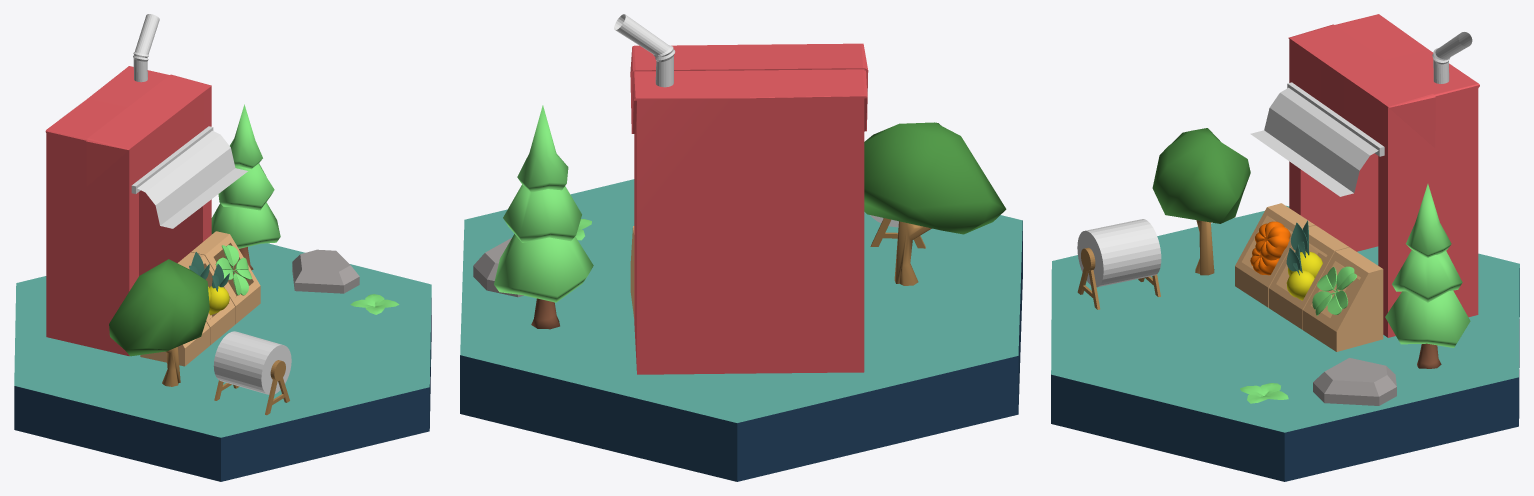
Rendered from Macro - Market lv2 wm2.fbx.
The picture shows the model from 3 angles, left to right: view 1: azimuth 30°, elevation 25°; view 2: azimuth 150°, elevation 25°; view 3: azimuth 270°, elevation 25°; orthographic projection. The views are drawn at different scales.
Visible parts, largest first — view 1: Cylinder.154, Juicebox Open, tree1 v:88 f:56, Plane.095, Tree_Spruce_tiny_01.003, Cylinder.001, Rock Type4 04 mesh.002, Cube.142, Cube.141, Cylinder, Cube.140, Cube.007 (+2 smaller); view 2: Cylinder.154, Juicebox Open, tree1 v:88 f:56, Tree_Spruce_tiny_01.003, Cylinder, Rock Type4 04 mesh.002; view 3: Cylinder.154, Juicebox Open, Tree_Spruce_tiny_01.003, tree1 v:88 f:56, Plane.095, Cube.142, Cylinder.001, Rock Type4 04 mesh.002, Cube.140, Cube.141, Sphere.053, Cylinder (+3 smaller).
Part boxes in pixels (x1,y1,x2,y2): Cylinder.154: [14, 243, 431, 481]; Juicebox Open: [45, 66, 211, 356]; tree1 v:88 f:56: [109, 259, 209, 386]; Plane.095: [137, 130, 247, 228]; Tree_Spruce_tiny_01.003: [211, 104, 280, 270]; Cylinder.001: [213, 331, 291, 394]; Rock Type4 04 mesh.002: [292, 249, 359, 293]; Cube.142: [191, 231, 260, 324]; Cube.141: [177, 252, 235, 345]; Cylinder: [133, 14, 159, 82]; Cube.140: [140, 322, 209, 366]; Cube.007: [131, 126, 213, 193]; Cylinder.154: [460, 179, 1022, 481]; Juicebox Open: [630, 43, 868, 374]; tree1 v:88 f:56: [864, 122, 1006, 285]; Tree_Spruce_tiny_01.003: [494, 105, 593, 329]; Cylinder: [614, 14, 675, 87]; Rock Type4 04 mesh.002: [473, 238, 523, 297]; Cylinder.154: [1051, 205, 1519, 481]; Juicebox Open: [1288, 14, 1479, 337]; Tree_Spruce_tiny_01.003: [1385, 184, 1470, 368]; tree1 v:88 f:56: [1152, 128, 1250, 275]; Plane.095: [1250, 87, 1378, 196]; Cube.142: [1303, 247, 1383, 351]; Cylinder.001: [1077, 219, 1161, 287]; Rock Type4 04 mesh.002: [1313, 358, 1396, 405]; Cube.140: [1235, 203, 1314, 307]; Cube.141: [1269, 225, 1349, 329]; Sphere.053: [1255, 221, 1290, 260]; Cylinder: [1432, 32, 1472, 83].
Size of the model in its own units: 197 by 138 by 172.
